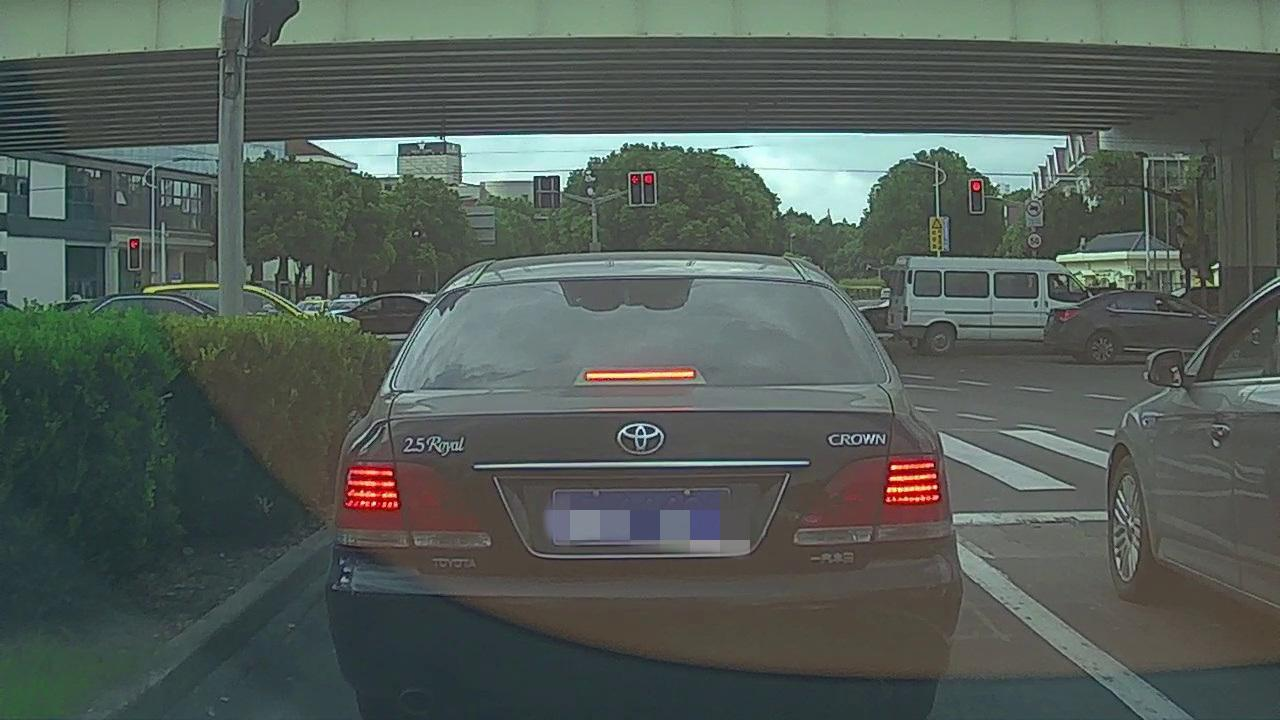traffic_light: (631, 173, 644, 204), (971, 180, 983, 212), (645, 172, 656, 206)
